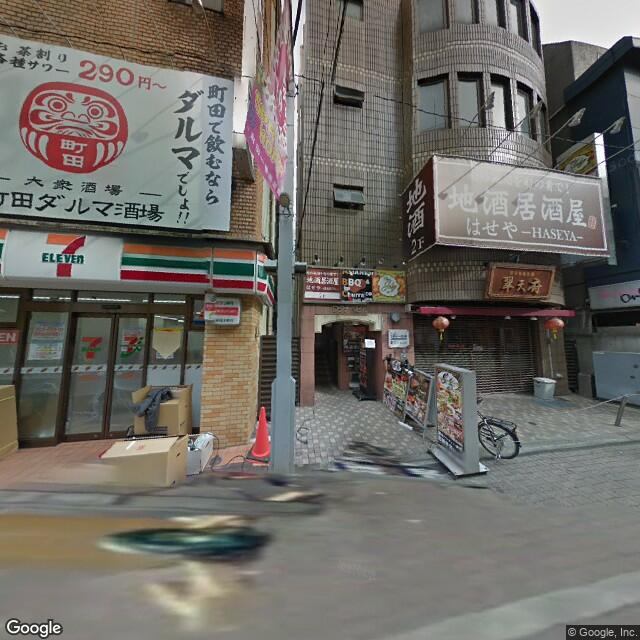7-eleven: (1, 221, 278, 316), (76, 332, 102, 369), (118, 331, 144, 364)
